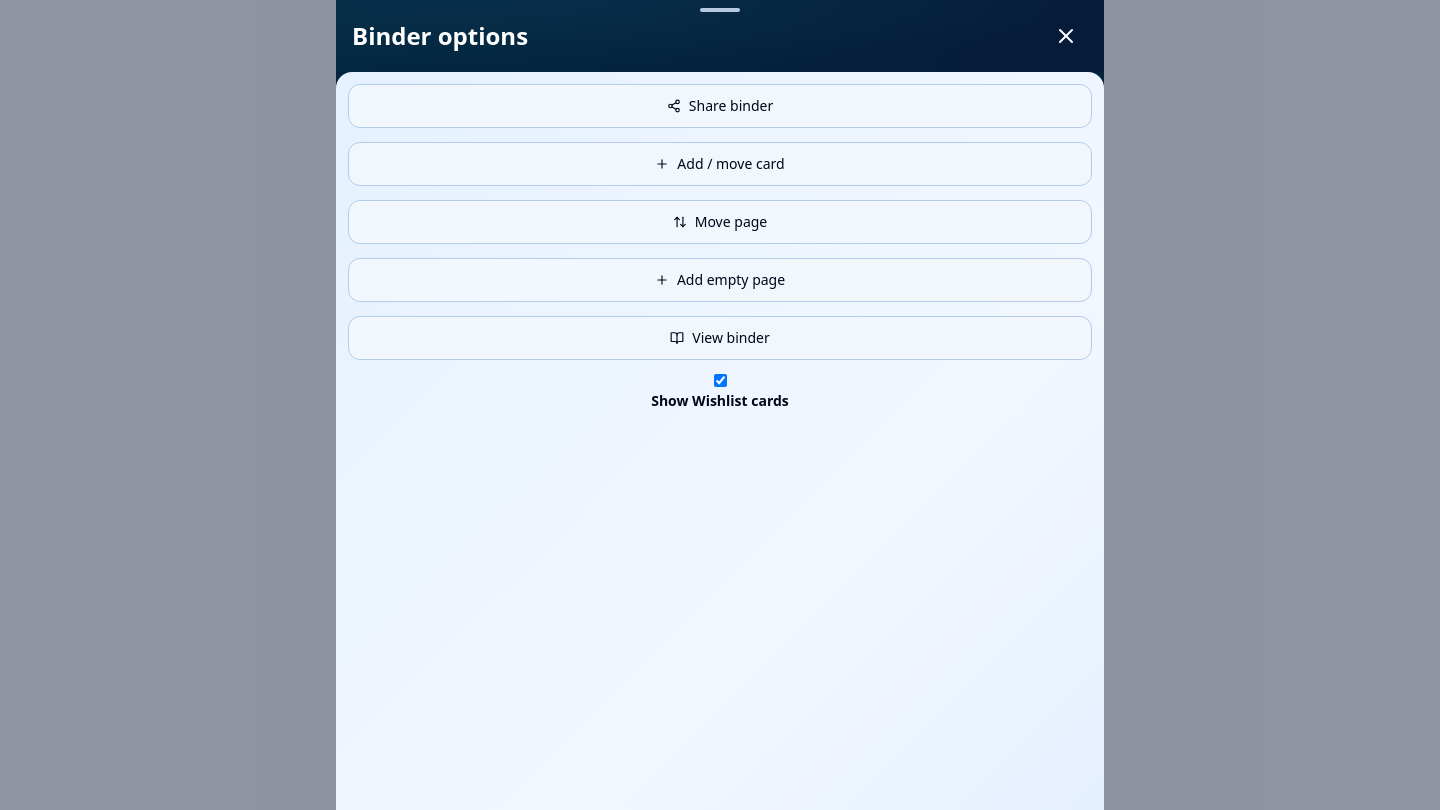
Test: moves a selected partial page and keeps layout settings controlled through async confirmation
Earlier steps of the test are not shown.
What coordinates should you click on to do the following:
click the checkbox labelled "Show Wishlist cards"
I would click on:
 (720, 380)
Its box is [714,374,726,387].
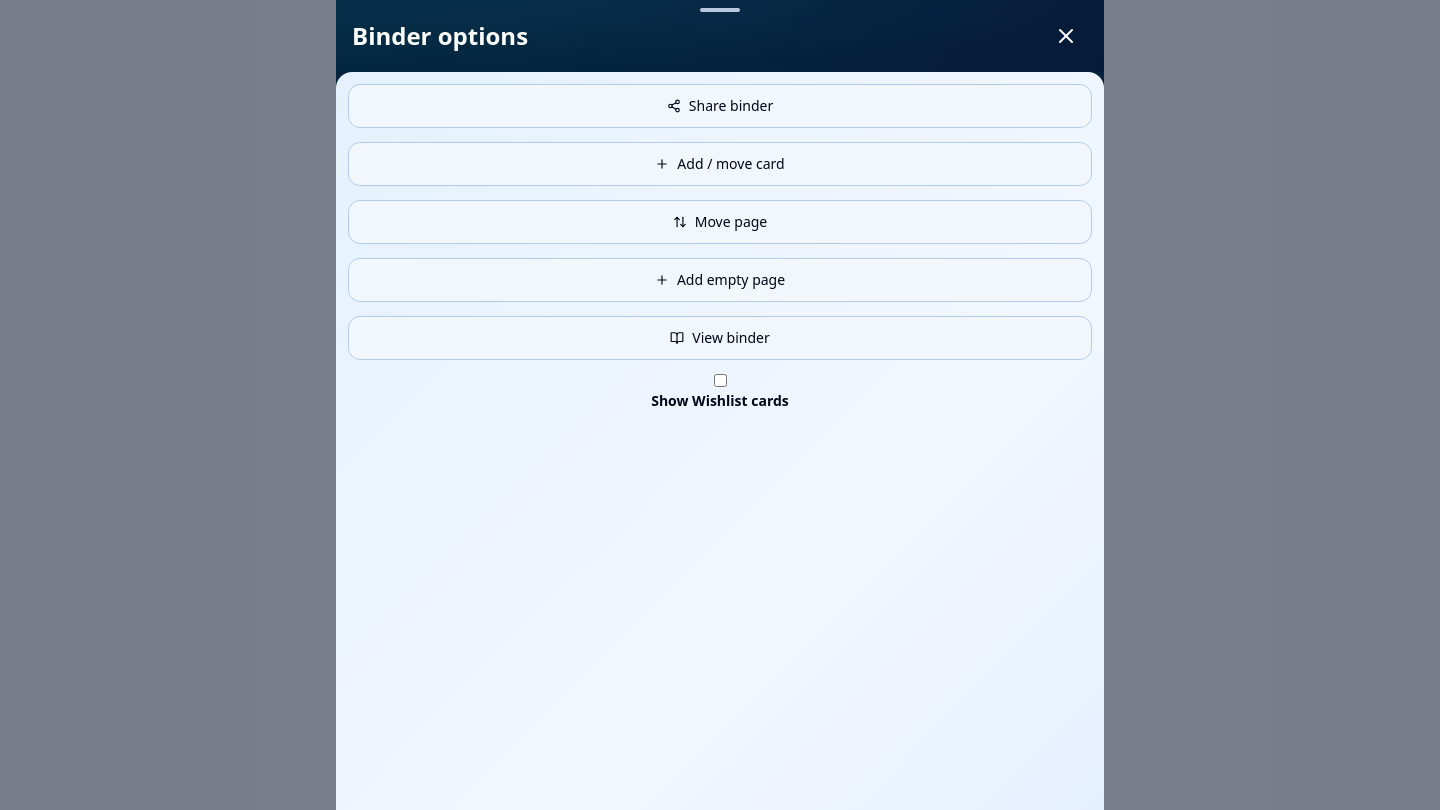
Check: the checkbox labelled "Show Wishlist cards" is not checked, box [714,374,726,387]
